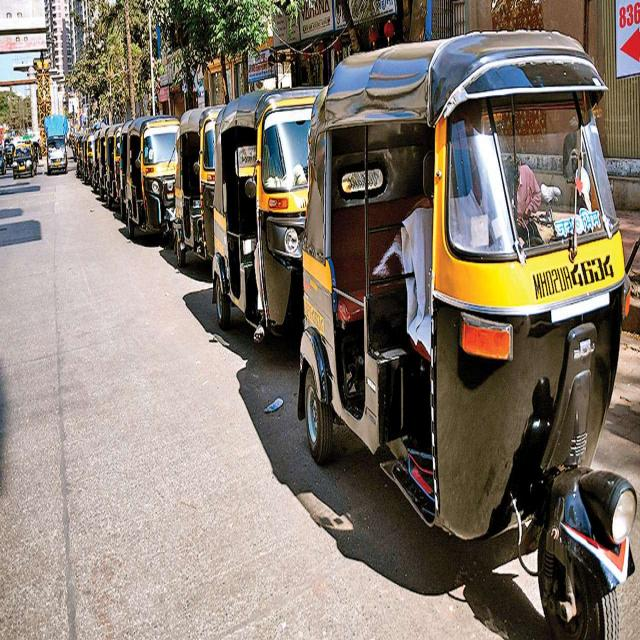autorikshaw: (298, 24, 639, 637), (215, 88, 323, 354), (178, 105, 228, 276), (126, 119, 184, 251)
